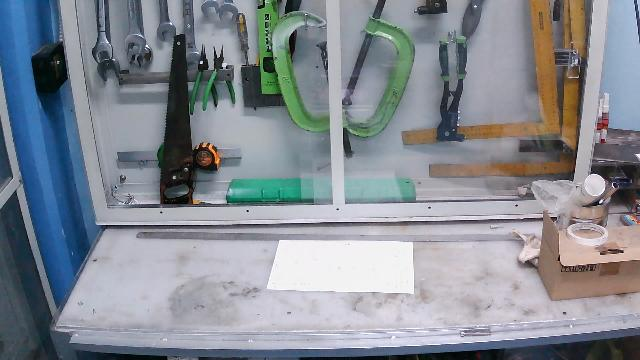tang_cucut_lancip_1: (207, 43, 238, 110)
